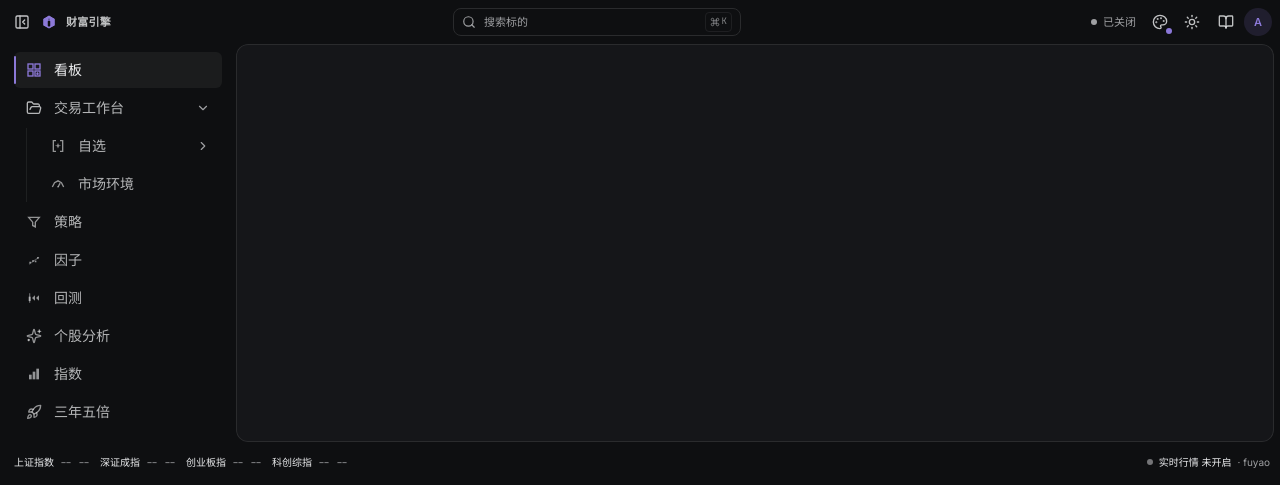
Test: restores saved folder expansion without overwriting a later manual collapse
Later steps or results of the test are not shown.
Click the button with aria-label "交易工作台".
click(118, 108)  # box [14,90,222,126]
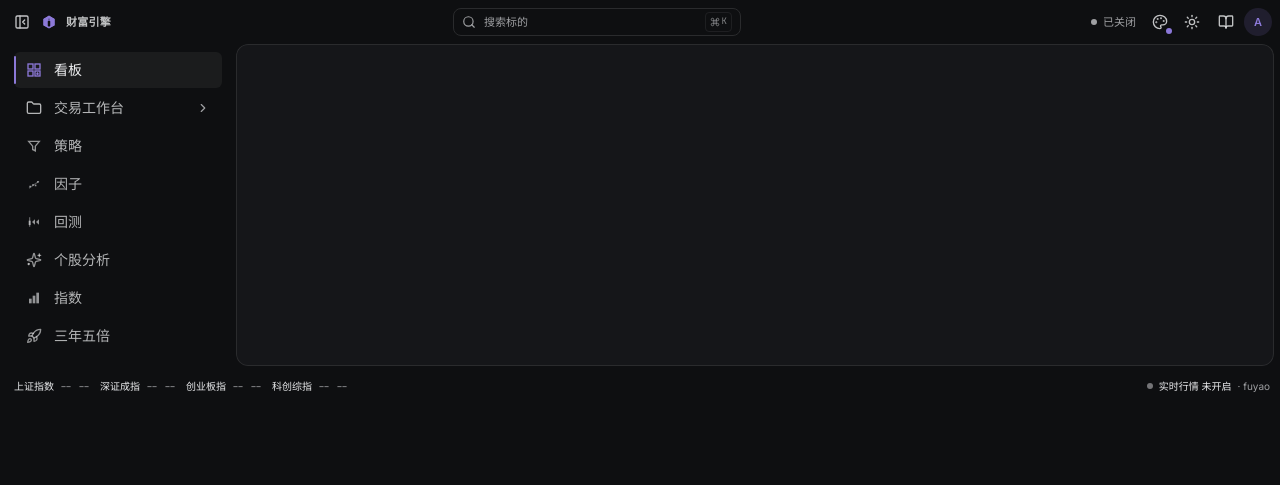
Now the button with aria-label "交易工作台" is collapsed, box [14,90,222,126]
